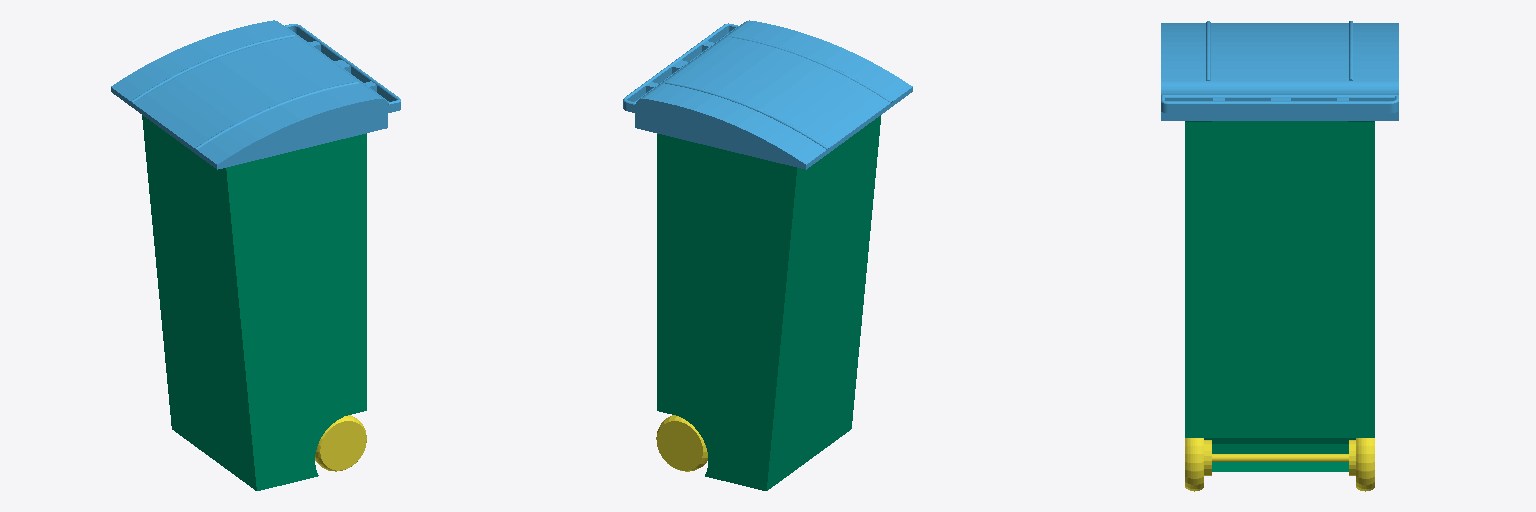
robot.urdf — partnet_f8b6bcf0dcf240e567e4c36fcbad1d04:
<?xml version="1.0" ?>
<robot name="partnet_f8b6bcf0dcf240e567e4c36fcbad1d04">
	<link name="base"/>
	<link name="link_0">
		<visual name="cover_lid-12">
			<origin xyz="-0.43416500000000013 -0.6371852393310016 0.34099879648383413"/>
			<geometry>
				<mesh filename="textured_objs/new-6.obj"/>
			</geometry>
		</visual>
		<visual name="cover_handle-14">
			<origin xyz="-0.43416500000000013 -0.6371852393310016 0.34099879648383413"/>
			<geometry>
				<mesh filename="textured_objs/new-5.obj"/>
			</geometry>
		</visual>
		<collision>
			<origin xyz="-0.43416500000000013 -0.6371852393310016 0.34099879648383413"/>
			<geometry>
				<mesh filename="textured_objs/new-6.obj"/>
			</geometry>
		</collision>
		<collision>
			<origin xyz="-0.43416500000000013 -0.6371852393310016 0.34099879648383413"/>
			<geometry>
				<mesh filename="textured_objs/new-5.obj"/>
			</geometry>
		</collision>
	</link>
	<joint name="joint_0" type="revolute">
		<origin xyz="0.43416500000000013 0.6371852393310016 -0.34099879648383413"/>
		<axis xyz="-1 0 0"/>
		<child link="link_0"/>
		<parent link="link_1"/>
		<limit lower="-0.0" upper="1.5707963267948966"/>
	</joint>
	<link name="link_1">
		<visual name="container_box-10">
			<origin xyz="0 0 0"/>
			<geometry>
				<mesh filename="textured_objs/new-4.obj"/>
			</geometry>
		</visual>
		<visual name="container_bottom-11">
			<origin xyz="0 0 0"/>
			<geometry>
				<mesh filename="textured_objs/new-3.obj"/>
			</geometry>
		</visual>
		<collision>
			<origin xyz="0 0 0"/>
			<geometry>
				<mesh filename="textured_objs/new-4.obj"/>
			</geometry>
		</collision>
		<collision>
			<origin xyz="0 0 0"/>
			<geometry>
				<mesh filename="textured_objs/new-3.obj"/>
			</geometry>
		</collision>
	</link>
	<joint name="joint_1" type="fixed">
		<origin rpy="1.570796326794897 0 -1.570796326794897" xyz="0 0 0"/>
		<child link="link_1"/>
		<parent link="base"/>
	</joint>
	<link name="link_2">
		<visual name="wheel-9">
			<origin xyz="-0.3435679999999999 0.8050173624408158 0.18969853872284148"/>
			<geometry>
				<mesh filename="textured_objs/new-0.obj"/>
			</geometry>
		</visual>
		<visual name="wheel-8">
			<origin xyz="-0.3435679999999999 0.8050173624408158 0.18969853872284148"/>
			<geometry>
				<mesh filename="textured_objs/new-2.obj"/>
			</geometry>
		</visual>
		<visual name="wheel_connector-7">
			<origin xyz="-0.3435679999999999 0.8050173624408158 0.18969853872284148"/>
			<geometry>
				<mesh filename="textured_objs/new-1.obj"/>
			</geometry>
		</visual>
		<collision>
			<origin xyz="-0.3435679999999999 0.8050173624408158 0.18969853872284148"/>
			<geometry>
				<mesh filename="textured_objs/new-0.obj"/>
			</geometry>
		</collision>
		<collision>
			<origin xyz="-0.3435679999999999 0.8050173624408158 0.18969853872284148"/>
			<geometry>
				<mesh filename="textured_objs/new-2.obj"/>
			</geometry>
		</collision>
		<collision>
			<origin xyz="-0.3435679999999999 0.8050173624408158 0.18969853872284148"/>
			<geometry>
				<mesh filename="textured_objs/new-1.obj"/>
			</geometry>
		</collision>
	</link>
	<joint name="joint_2" type="continuous">
		<origin xyz="0.3435679999999999 -0.8050173624408158 -0.18969853872284148"/>
		<axis xyz="1 0 0"/>
		<child link="link_2"/>
		<parent link="link_1"/>
	</joint>
</robot>

--- What the picture shows (computed from the rendered views, not written in the file) ---
3 views of the same robot in one strip: view 1: azimuth 30°, elevation 25°; view 2: azimuth 150°, elevation 25°; view 3: azimuth 270°, elevation 25° (orthographic).
Robot: partnet_f8b6bcf0dcf240e567e4c36fcbad1d04 — 4 links, 3 joints (1 revolute, 1 continuous, 1 fixed); root link base; default pose: all joints at 0.
Links seen in each view (by area): view 1: link_1, link_0, link_2; view 2: link_1, link_0, link_2; view 3: link_1, link_0, link_2.
Link boxes in pixels (bbox=[...]): link_1: bbox=[142, 115, 366, 490]; link_0: bbox=[111, 20, 400, 169]; link_2: bbox=[315, 415, 366, 471]; link_1: bbox=[657, 115, 880, 490]; link_0: bbox=[623, 20, 912, 169]; link_2: bbox=[656, 415, 707, 471]; link_1: bbox=[1185, 121, 1374, 471]; link_0: bbox=[1161, 21, 1398, 120]; link_2: bbox=[1185, 438, 1374, 491].
Size in the robot's own frame: 0.8866 by 0.8762 by 1.72 metres.
7 mesh visuals loaded from 7 distinct referenced files (7 OBJ).
